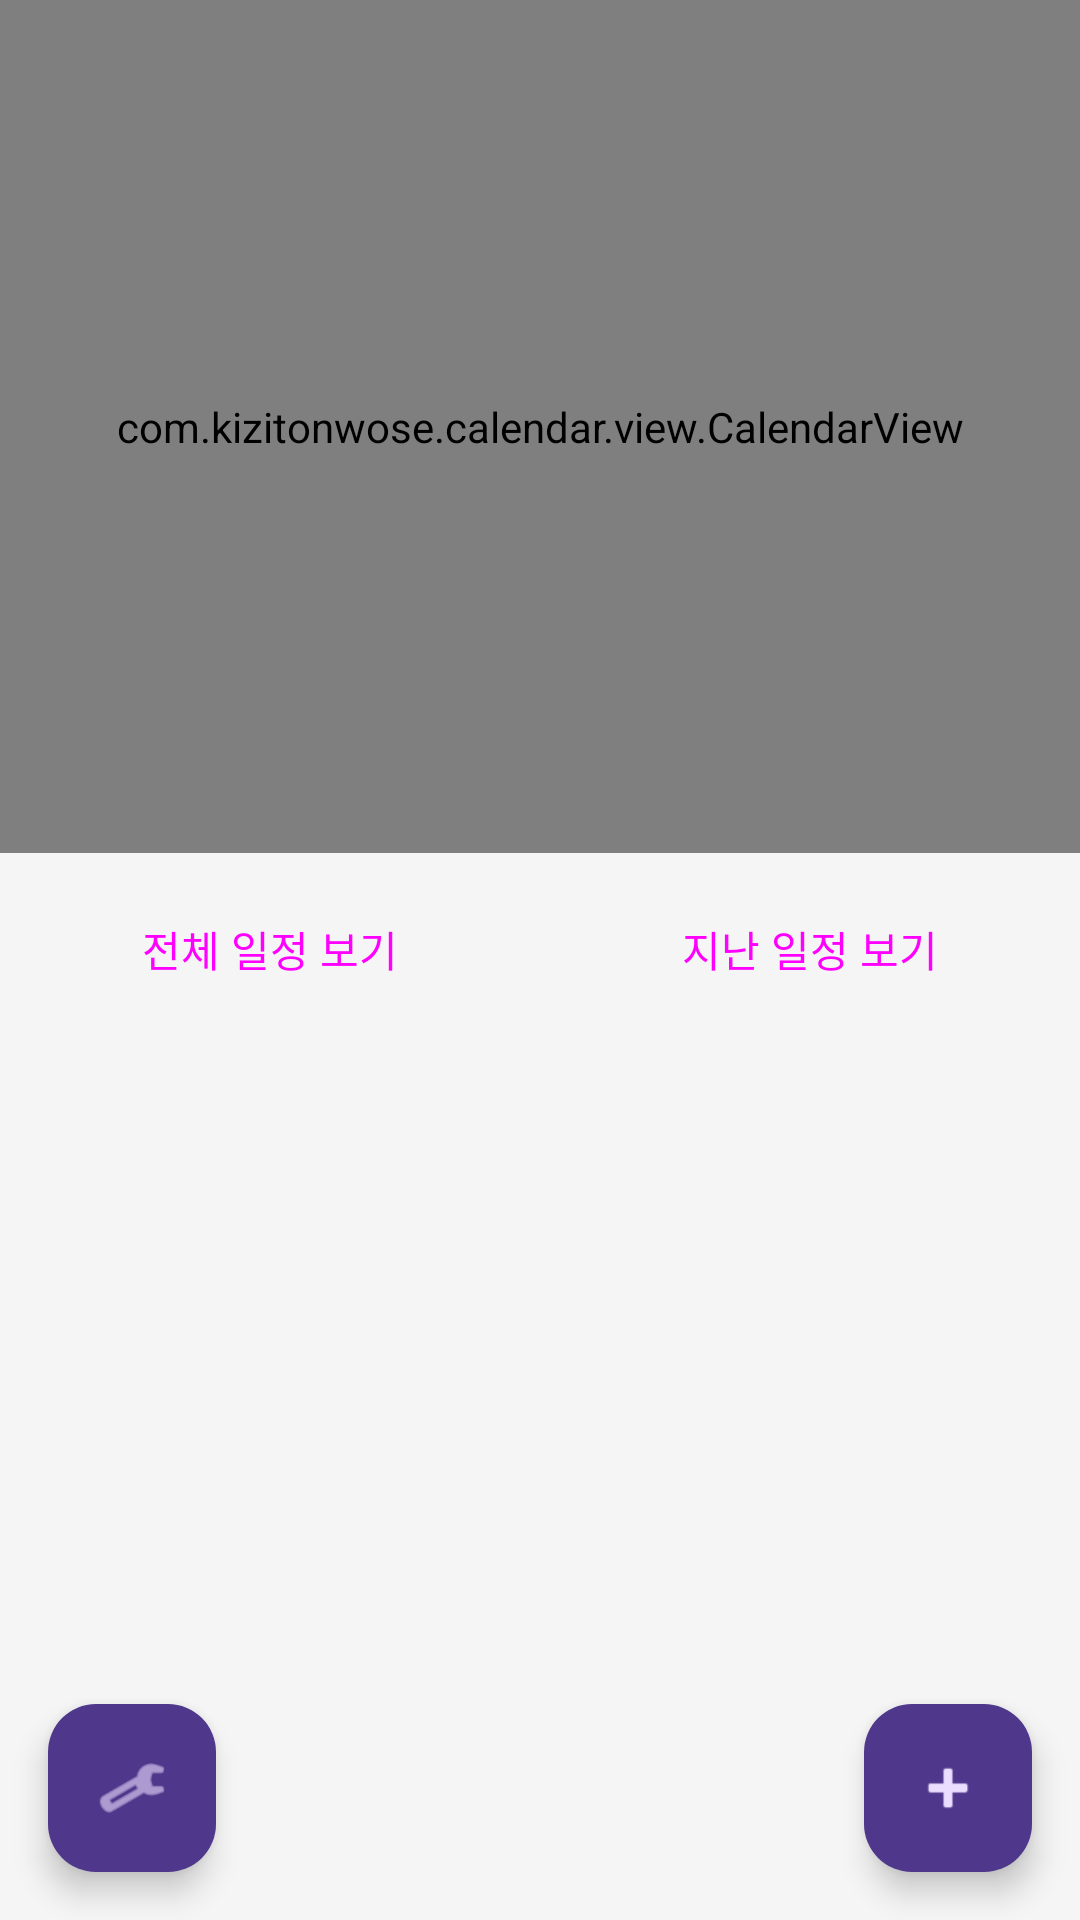

Locate icon controls on the screen. Image size 1080x1920, boxes as (x1, y1, x2, y2).
add: (864, 1704, 1032, 1872)
preferences: (48, 1704, 216, 1872)
